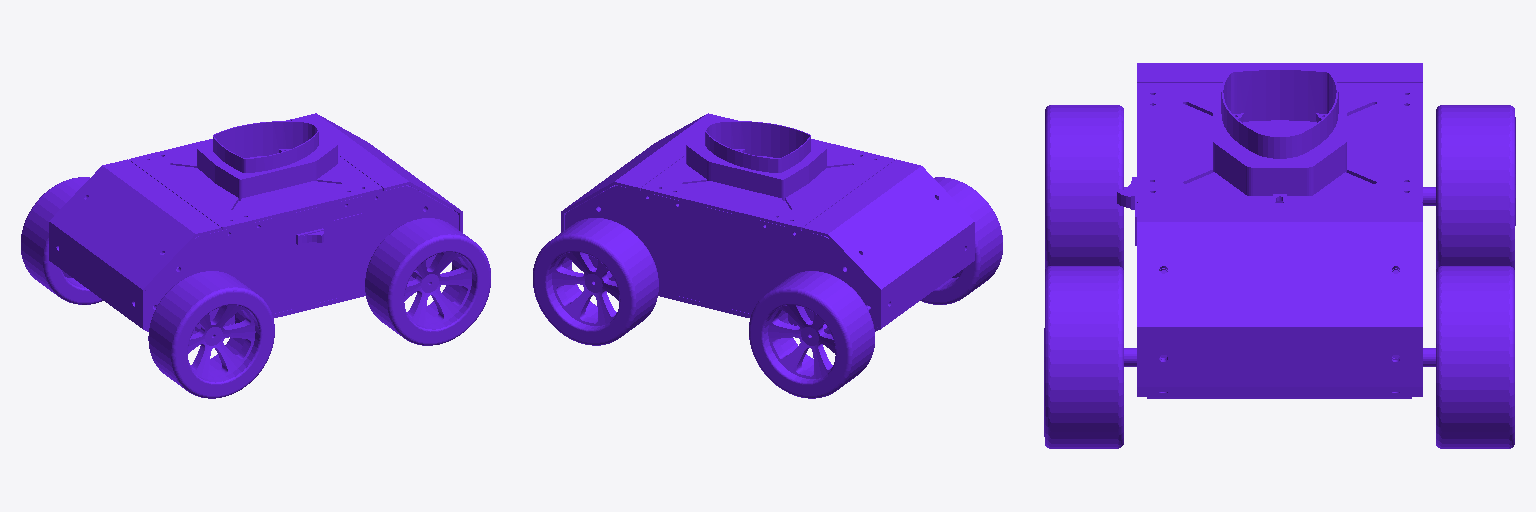
URDF robot description (mycar):
<!-- 设置不同形状的机器人部件 -->
<robot name="mycar">
    <link name="base_link">
        <!-- 可视化标签 -->
        <visual>
            <!-- 形状 -->
            <geometry>
                <!-- 立方体 -->
                <!-- <box size="0.3 0.2 0.1" /> -->
                <!-- 圆柱 -->
                <!-- <cylinder radius="0.1" length="2" /> -->
                <!-- 球体 -->
                <!-- <sphere radius="1" /> -->
                <!-- 皮肤 -->
                <mesh filename="package://urdf1_rviz/meshes/autolabor_mini.stl" />
            </geometry>

            <!-- 偏移量与倾斜角度 -->
            <!-- 
                xyz 设置机器人模型分别在 x y z 上的偏移量

                rpy 用于设置倾斜弧度 x(翻滚) y(俯仰) z(偏航)
             -->
            <origin xyz="0 0 0 " rpy="1.57 0 1.57"/>

            <!-- 颜色 -->
            <!-- 
                rgba
                    r = red
                    g = green
                    b = blue
                    a = 透明度

                四者取值 [0, 1]
             -->
            <material name="car_color">
                <color rgba="0.5 0.2 1 0.5" />
            </material>
        </visual>
    </link>

</robot>

--- Render facts (derived) ---
Views: 3 orthographic renders of the robot side by side, from view 1: azimuth 30°, elevation 25°; view 2: azimuth 150°, elevation 25°; view 3: azimuth 270°, elevation 25°.
Model mycar with 1 links and 0 joints (none), rooted at base_link, posed all joints at 0.
Links seen in each view (by area): view 1: base_link; view 2: base_link; view 3: base_link.
Link boxes in pixels (x1=…): base_link: x1=21, y1=113, x2=490, y2=398; base_link: x1=533, y1=113, x2=1002, y2=398; base_link: x1=1044, y1=63, x2=1515, y2=448.
Bounding box of the posed robot: 0.3551 × 0.2962 × 0.1856 m (x, y, z).
Meshes: 1 distinct files referenced, 1 mesh visuals loaded (1 binary STL).
